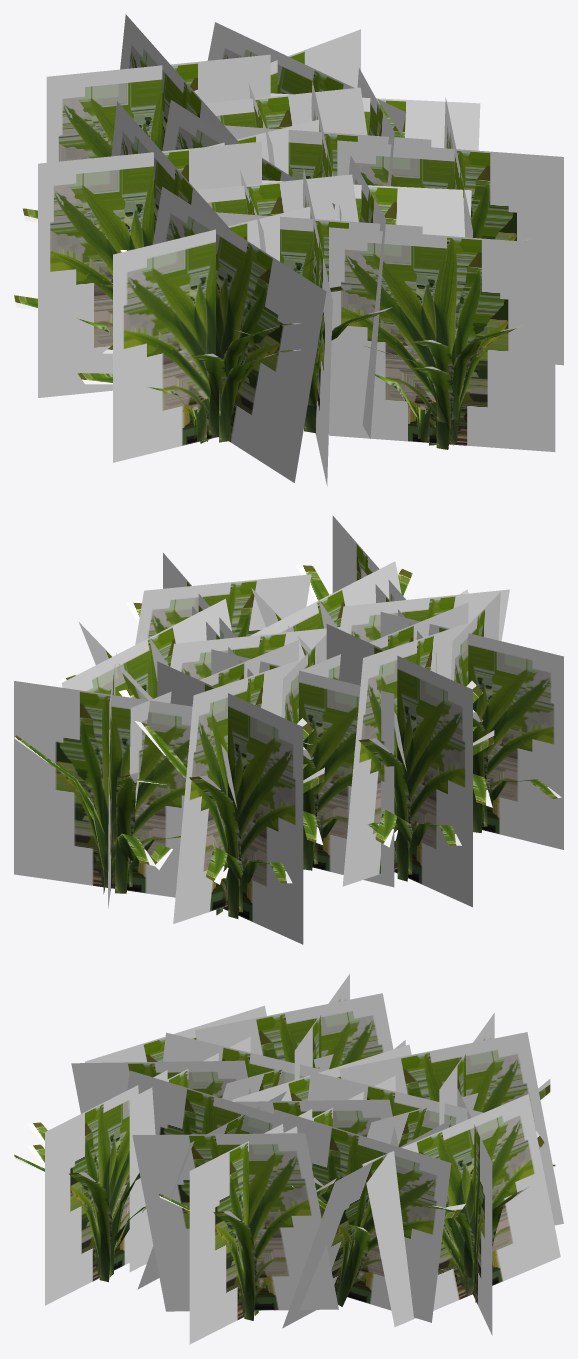
The model's file is leaf grass(region).dae.
The picture shows the model from 3 angles, top to bottom: view 1: azimuth 30°, elevation 25°; view 2: azimuth 150°, elevation 25°; view 3: azimuth 270°, elevation 25°; orthographic projection. The views are drawn at different scales.
Parts seen in each view (by area): view 1: leaf_grass_region_Group8_Form36_Form36, leaf_grass_region_Form36; view 2: leaf_grass_region_Group8_Form36_Form36, leaf_grass_region_Form36; view 3: leaf_grass_region_Group8_Form36_Form36, leaf_grass_region_Form36.
Boxes of the visible parts, x1,y1,x2,y2 form: leaf_grass_region_Group8_Form36_Form36: (14,14,480,486); leaf_grass_region_Form36: (329,97,563,451); leaf_grass_region_Group8_Form36_Form36: (14,561,563,944); leaf_grass_region_Form36: (126,515,468,644); leaf_grass_region_Group8_Form36_Form36: (71,974,563,1335); leaf_grass_region_Form36: (14,1070,338,1344).
Size of the model in its own units: 90.04 by 50.52 by 109.
1 material, 1 textured.
